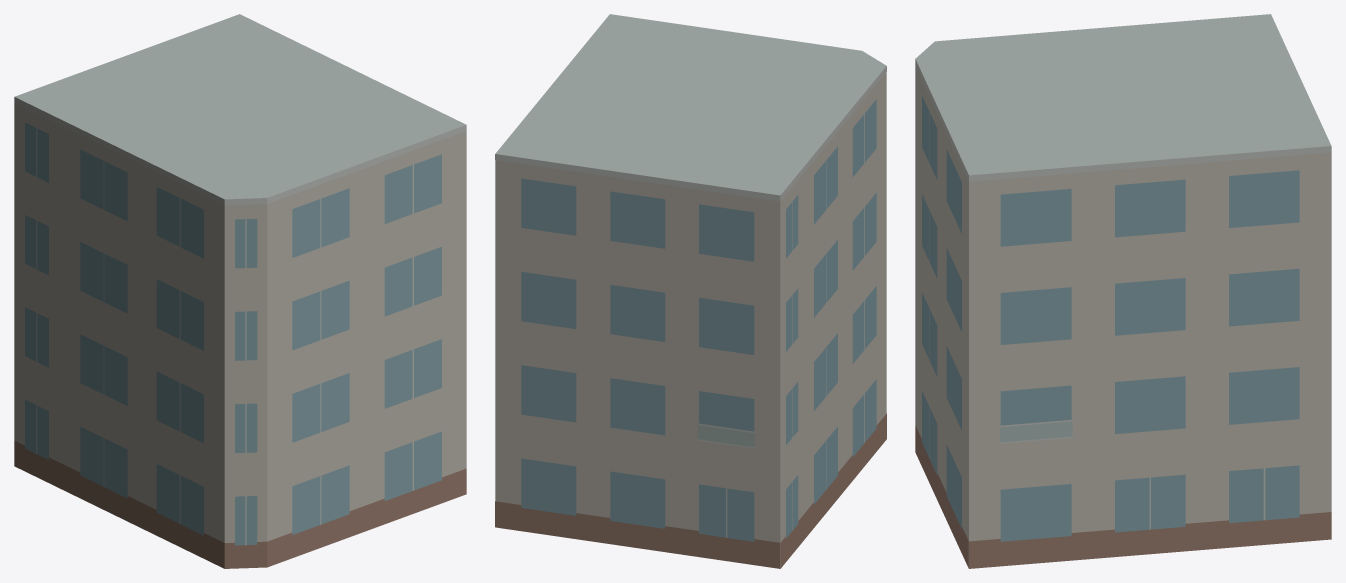
File: survey-upis-32614420.glb
The picture shows the model from 3 angles, left to right: view 1: azimuth 30°, elevation 25°; view 2: azimuth 150°, elevation 25°; view 3: azimuth 270°, elevation 25°; orthographic projection. The views are drawn at different scales.
Parts seen in each view (by area): view 1: survey-upis-32614420.tmp; view 2: survey-upis-32614420.tmp; view 3: survey-upis-32614420.tmp.
Boxes of the visible parts, left/top/right/bottom form: survey-upis-32614420.tmp: left=14, top=14, right=466, bottom=568; survey-upis-32614420.tmp: left=495, top=14, right=886, bottom=568; survey-upis-32614420.tmp: left=915, top=14, right=1331, bottom=568.
Bounding box in the file's own units: 13.03 × 14.8 × 14.2.
